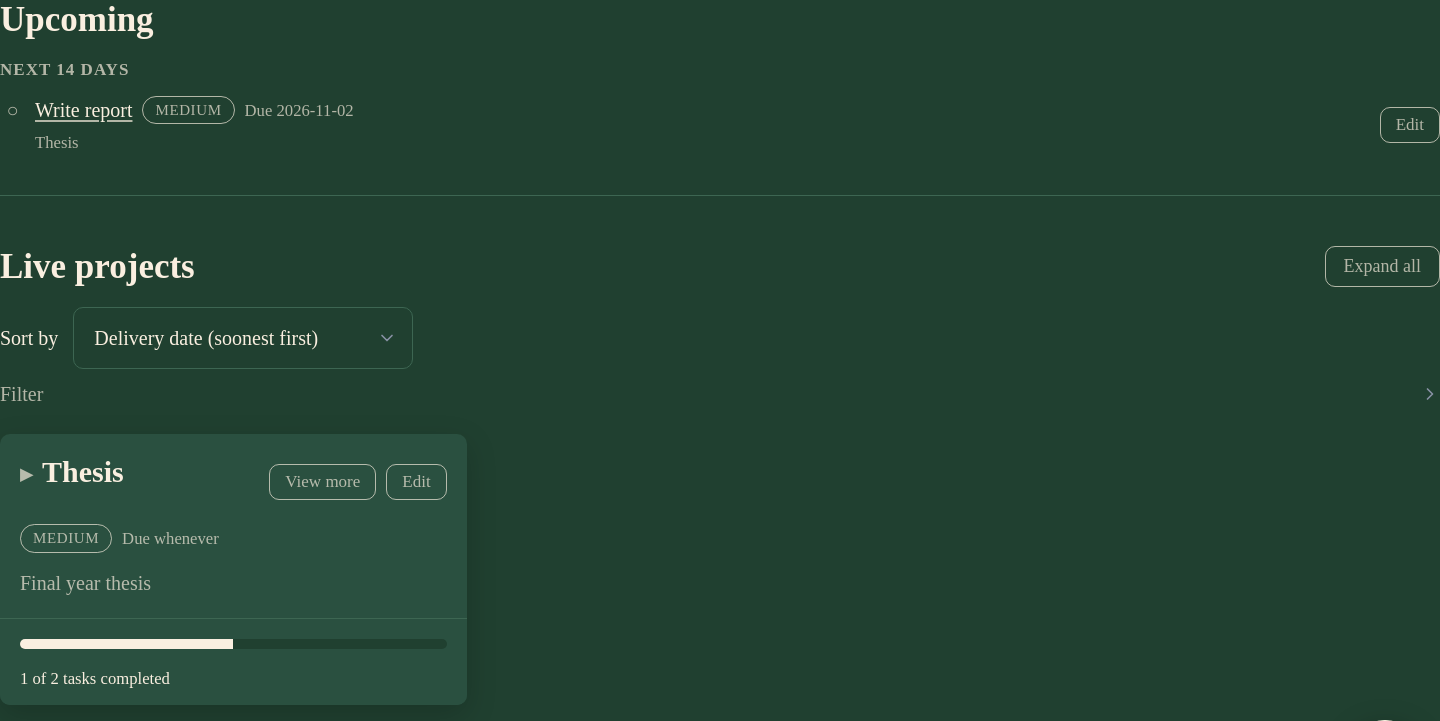
it: Dashboard details pages › opens a project's page from View more, with every task's description, and back returns to the list
This screenshot has width=1440, height=721.
Click the button with aria-label "View more of Thesis".
click(323, 482)  # box [269,464,376,500]
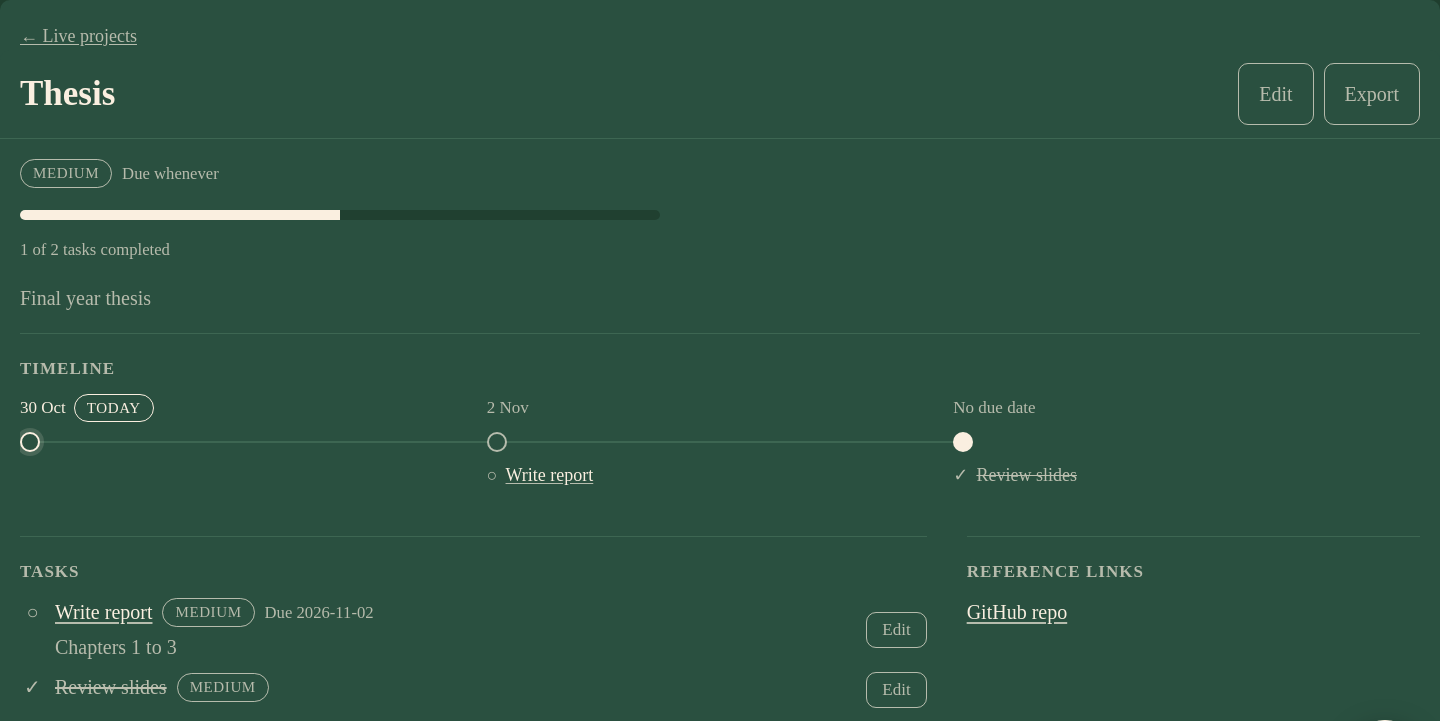
Expected: the heading "Thesis" is shown, [20,74,115,114]
Expected: the list with class "timeline" shows "Write report", [506,462,593,489]
Expected: the text with class "task-description" reads "Chapters 1 to 3", [55,636,177,658]
